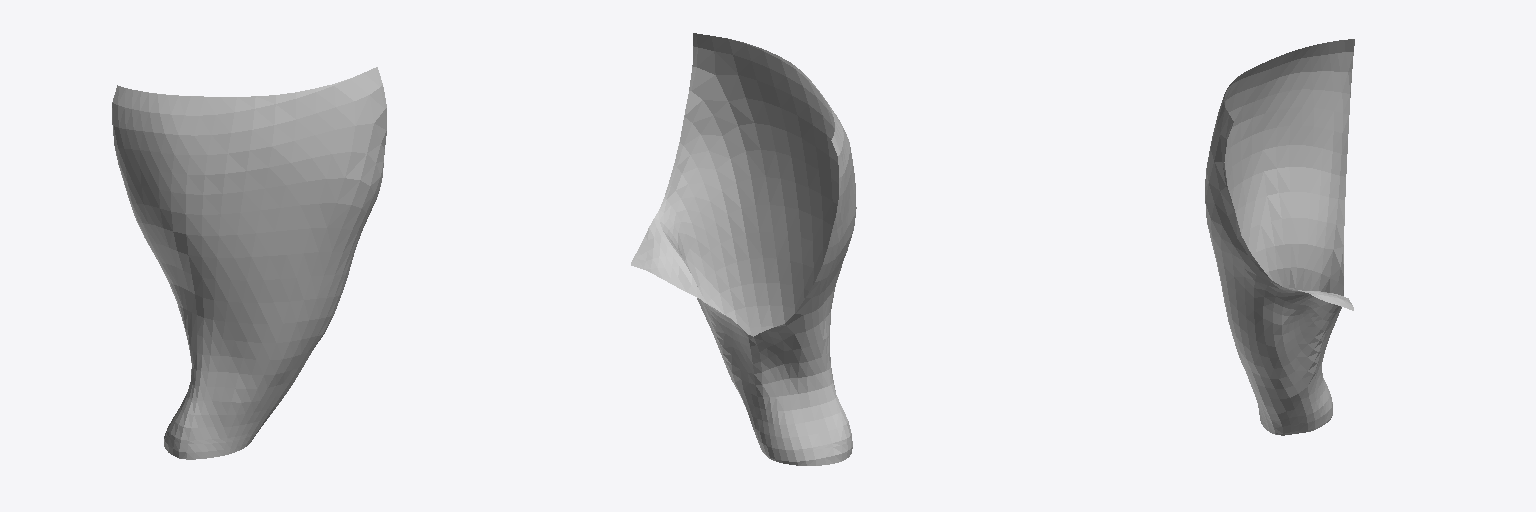
Rendered from cavalier_leg_back_right_middle.obj.
3 views of the same model, side by side, from view 1: azimuth 30°, elevation 25°; view 2: azimuth 150°, elevation 25°; view 3: azimuth 270°, elevation 25° (orthographic).
Visible parts, largest first — view 1: 15548_French_Horseman_v1.001; view 2: 15548_French_Horseman_v1.001; view 3: 15548_French_Horseman_v1.001.
Part boxes in pixels (x1,y1,x2,y2): 15548_French_Horseman_v1.001: (112,67,386,459); 15548_French_Horseman_v1.001: (631,33,856,465); 15548_French_Horseman_v1.001: (1205,39,1354,435).
Bounding box in the file's own units: 2.47 × 3.97 × 1.49.